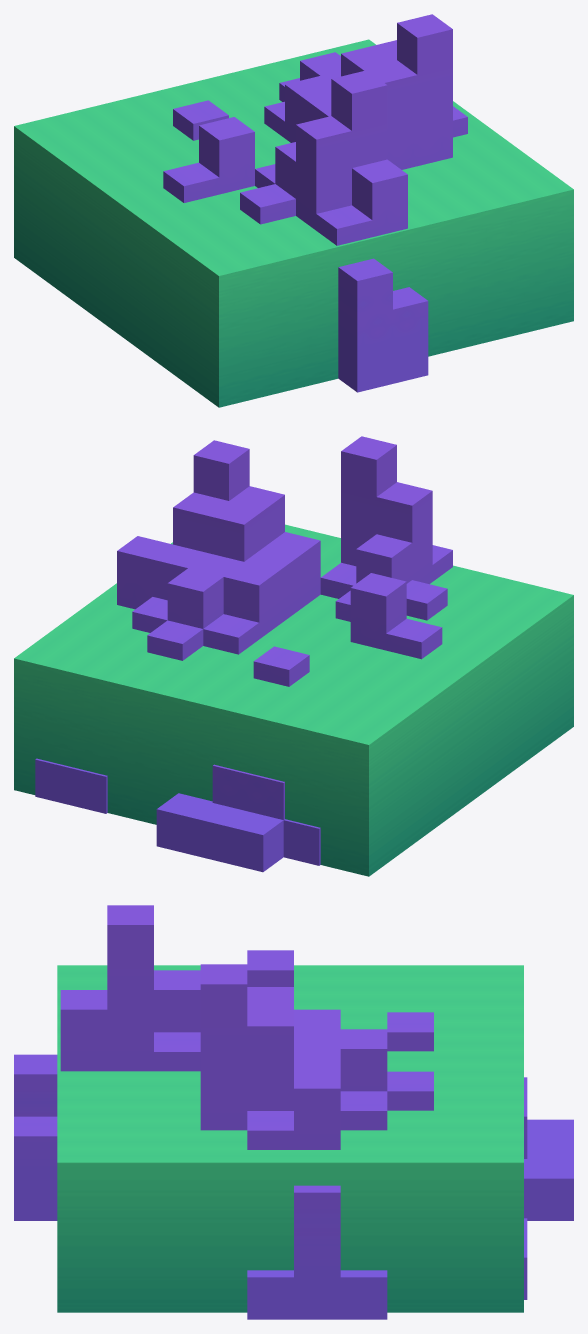
Rendered from mine2.glb.
3 views of the same model, one above another, from view 1: azimuth 30°, elevation 25°; view 2: azimuth 150°, elevation 25°; view 3: azimuth 270°, elevation 25° (orthographic). The views are drawn at different scales.
Visible parts, largest first — view 1: seam1, seam1.001; view 2: seam1, seam1.001; view 3: seam1, seam1.001.
Boxes of the visible parts, x1=… form: seam1: x1=14, y1=39, x2=573, y2=407; seam1.001: x1=163, y1=14, x2=467, y2=392; seam1: x1=14, y1=524, x2=573, y2=876; seam1.001: x1=35, y1=436, x2=452, y2=872; seam1: x1=57, y1=965, x2=523, y2=1312; seam1.001: x1=14, y1=905, x2=573, y2=1319.
Size of the model in its own units: 41.45 by 28 by 48.
1 material, 1 textured.
